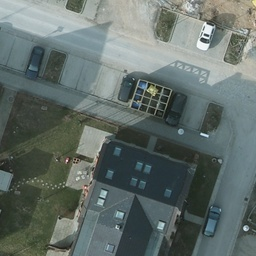car: (164, 93, 187, 128), (23, 45, 45, 80), (203, 205, 220, 238), (195, 22, 215, 50), (118, 75, 136, 102)
